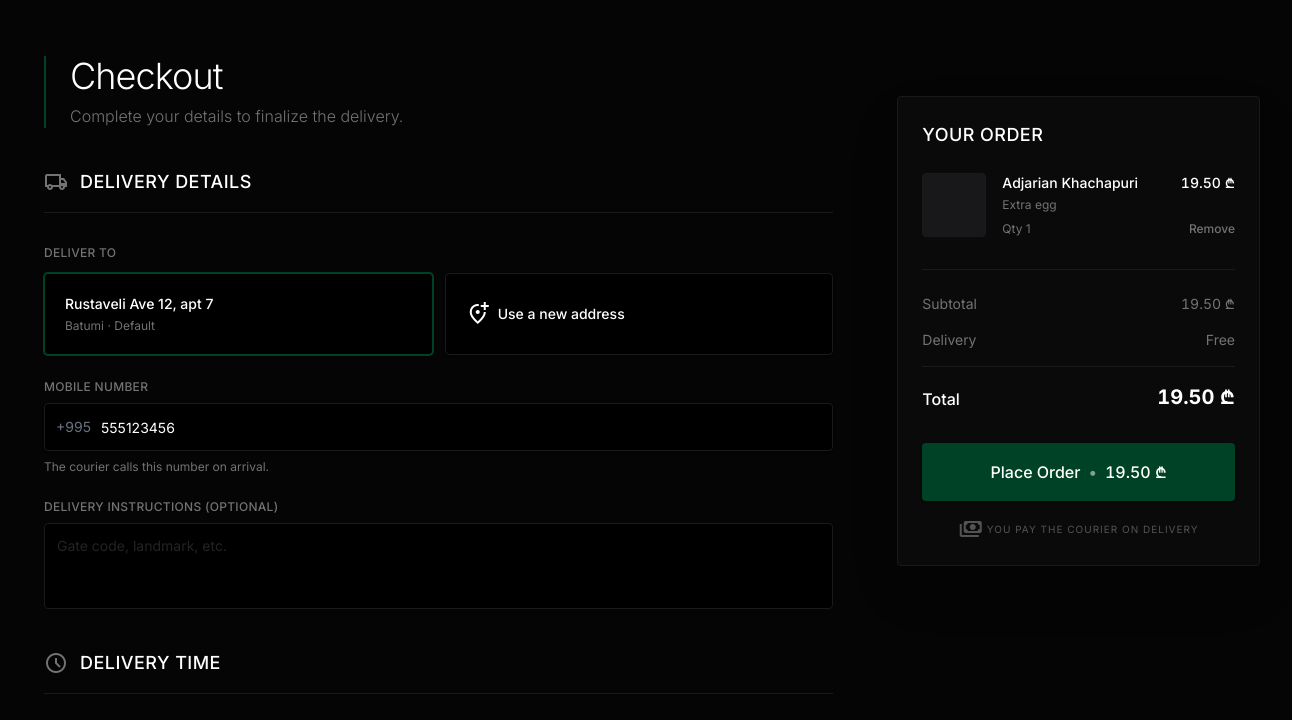
Test: Checkout › maps API validation errors onto fields and keeps the cart
The image size is (1292, 720).
Expected: the radio button labelled "Rustaveli Ave 12, apt 7 Batumi · Default" is shown, [44,273,433,355]
Click the button "Place Order • 19.50 ₾".
click(1079, 472)  # box [922,443,1235,501]
(page scrolled)
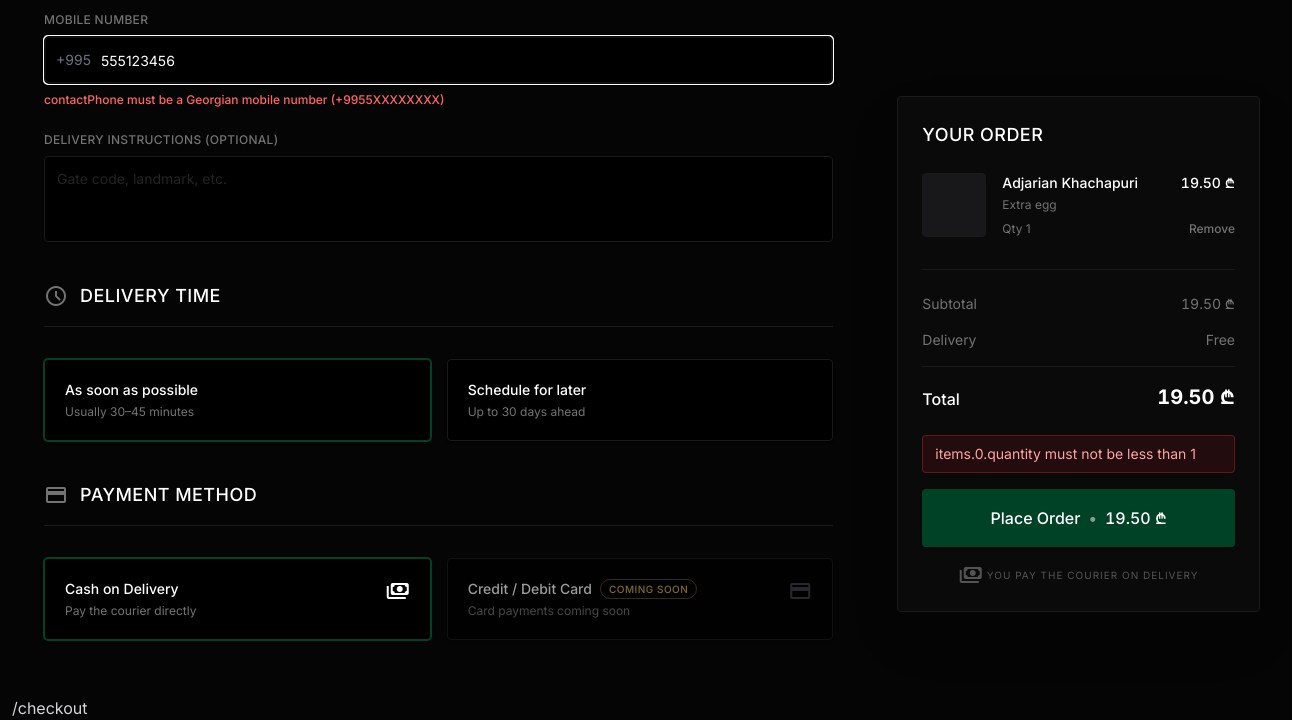
Expected: the text with test id "location" reads "/checkout", [12,698,88,718]
Result: the text "contactPhone must be a Georgian mobile number (+9955XXXXXXXX)" is shown at [44,92,444,107]
